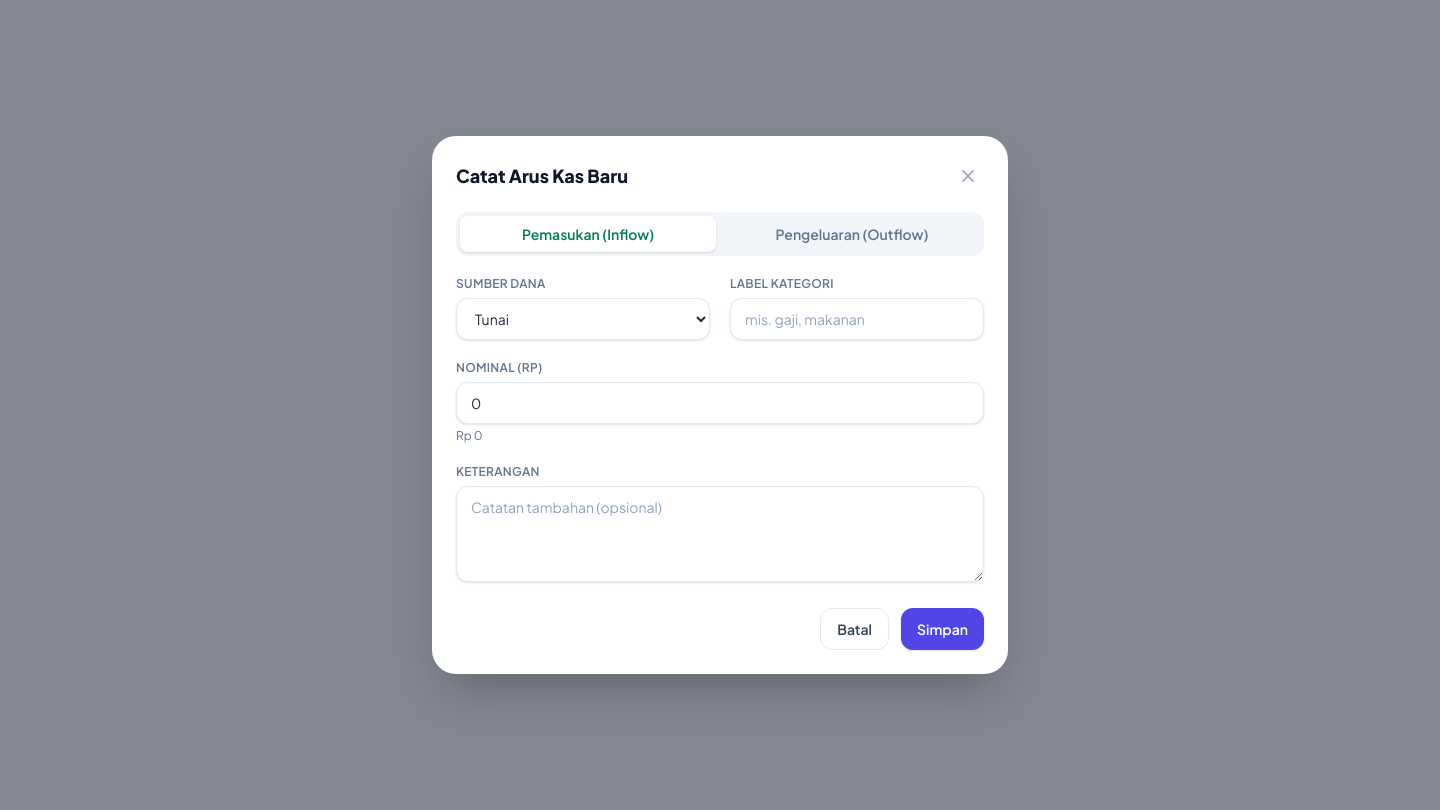
AddModal › validasi label dan nominal
Submit the form, box [456,212,984,650]
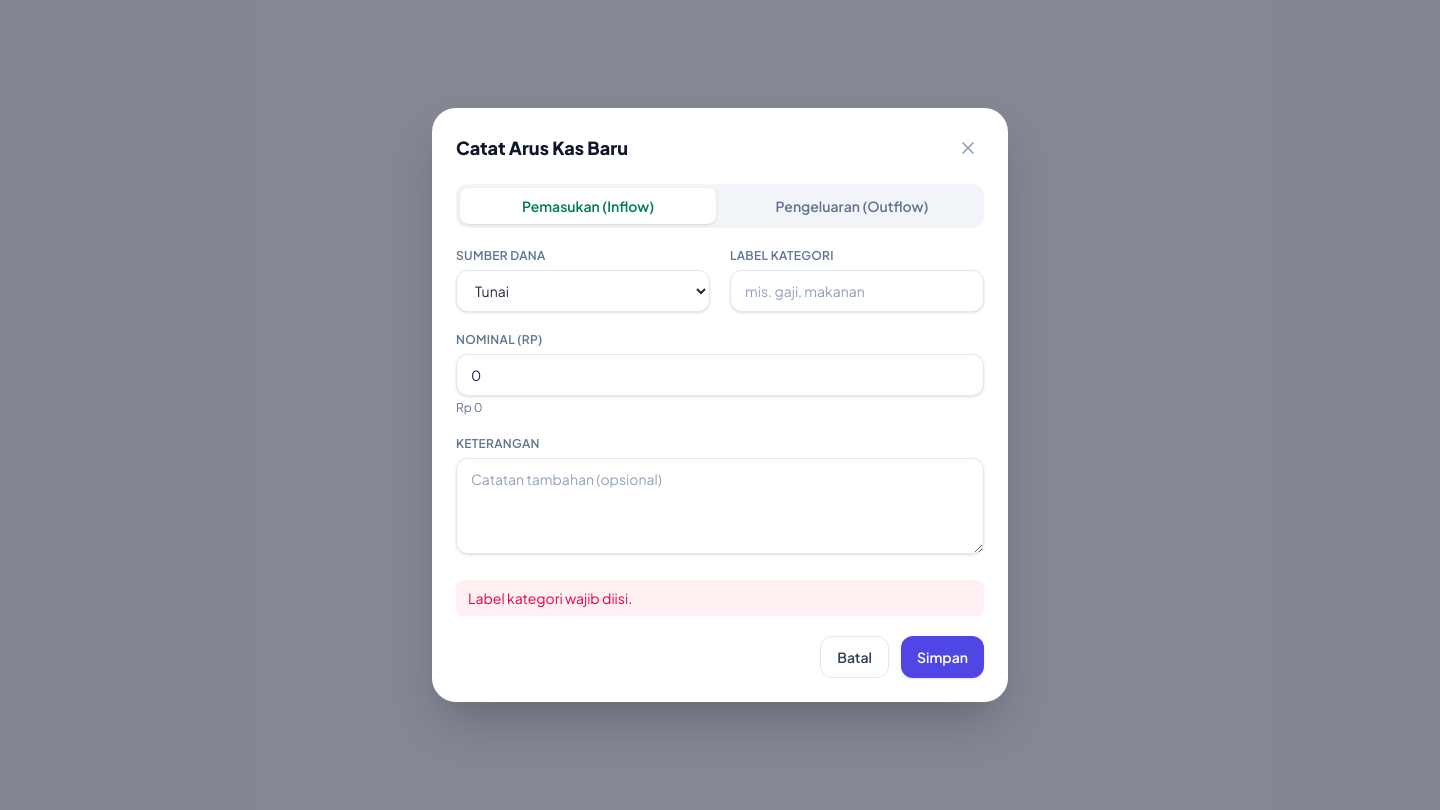
Expected: the text "Label kategori wajib diisi" is shown, [468,589,632,607]
Type "gaji" into the field with id "cf-label" at (857, 291), box [730,270,984,312]
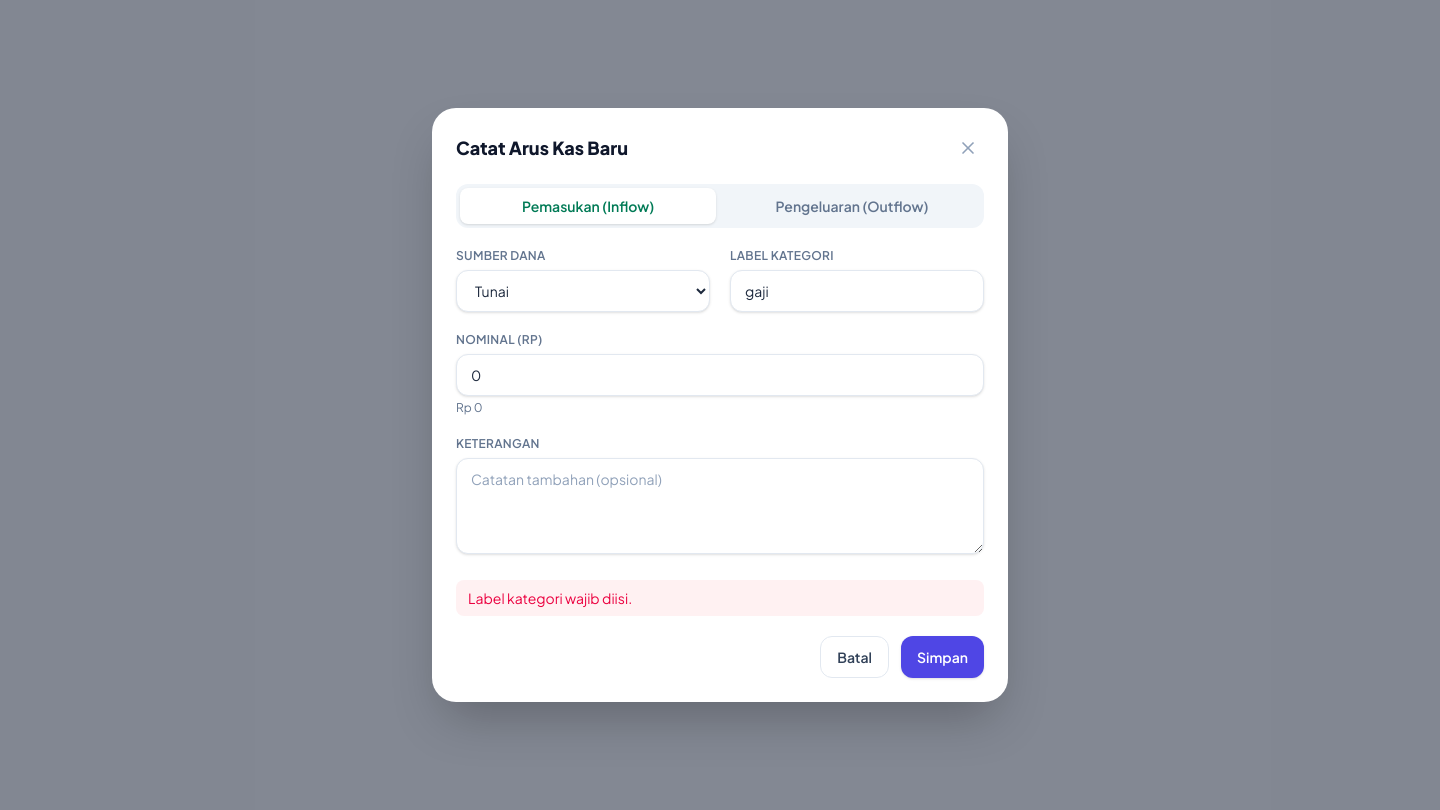
Submit the form, box [456,184,984,678]
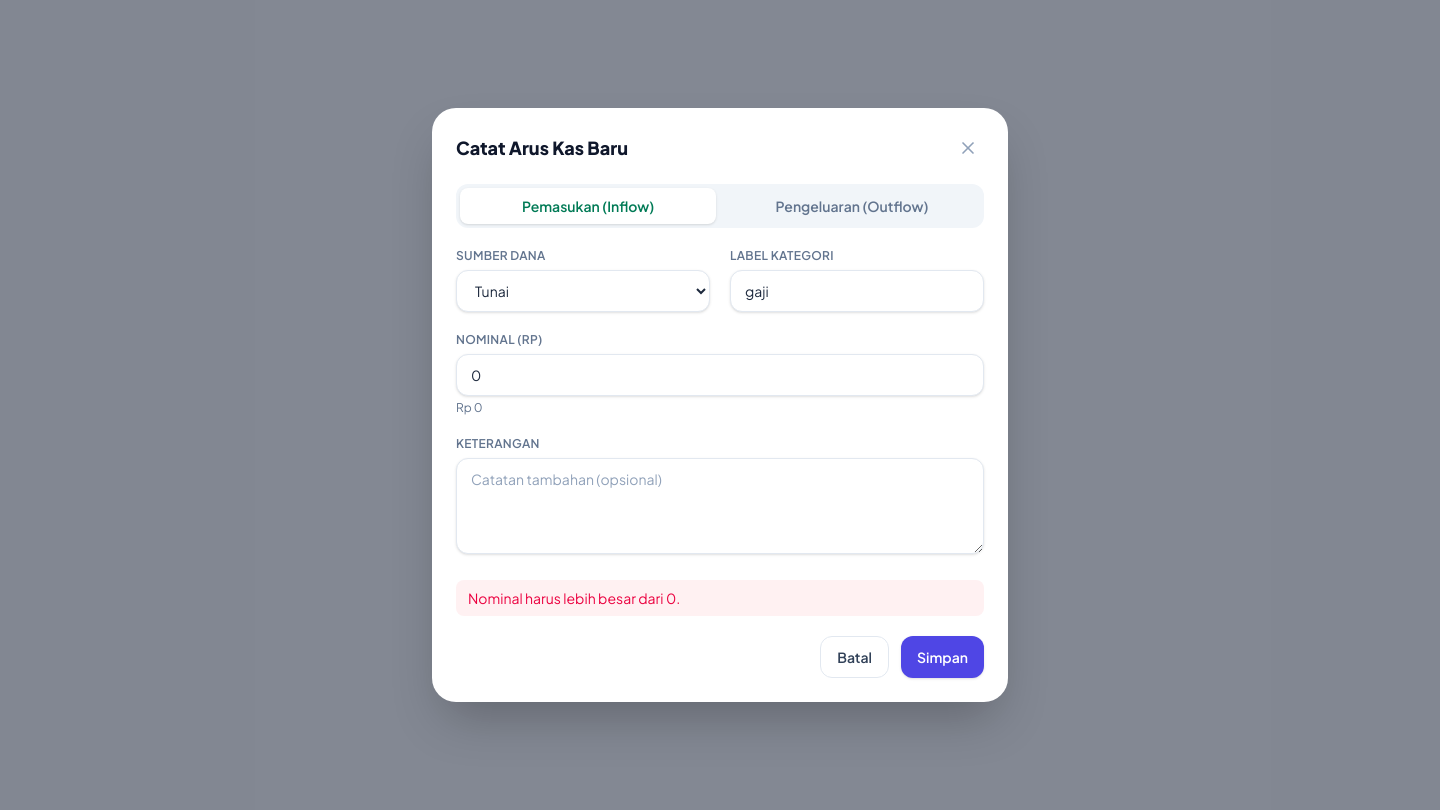
Expected: the text "Nominal harus lebih besar dari 0" is shown, [468,589,680,607]
